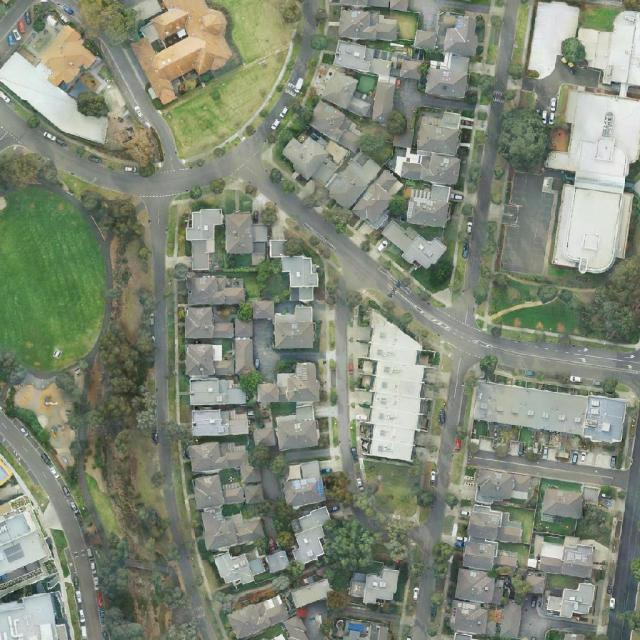agricultural_land: (0, 188, 106, 371)
building: (110, 0, 249, 112), (275, 117, 409, 231), (320, 5, 435, 129), (0, 455, 77, 640), (0, 50, 117, 156), (471, 380, 628, 446), (361, 311, 428, 461), (185, 434, 265, 514), (423, 10, 484, 103), (393, 110, 461, 185), (29, 22, 100, 93), (376, 219, 448, 273), (176, 201, 227, 274), (213, 540, 290, 588), (305, 98, 370, 154), (251, 403, 322, 454), (225, 590, 292, 640), (202, 503, 266, 552), (536, 531, 597, 579), (257, 362, 320, 403), (278, 459, 327, 510), (184, 304, 253, 340), (475, 468, 535, 509), (346, 565, 402, 606), (292, 506, 330, 564), (281, 253, 321, 304), (406, 183, 451, 227), (186, 275, 245, 305), (189, 376, 247, 406), (185, 344, 236, 377), (192, 410, 249, 436), (541, 487, 585, 519), (289, 579, 333, 609), (560, 582, 595, 618), (274, 322, 315, 349), (226, 212, 252, 254), (282, 613, 311, 640), (251, 223, 268, 265), (543, 151, 577, 171), (235, 338, 254, 373), (414, 30, 436, 50), (252, 299, 274, 319), (544, 595, 563, 615), (582, 485, 600, 504), (269, 238, 286, 258), (530, 535, 544, 558)
greenland: (91, 524, 201, 640), (86, 428, 171, 550), (95, 324, 155, 434), (215, 0, 297, 65), (582, 256, 640, 342), (315, 516, 377, 594), (74, 188, 149, 243), (0, 387, 58, 457), (261, 95, 317, 167), (0, 346, 42, 440), (500, 292, 587, 335), (497, 107, 549, 172), (325, 520, 374, 571), (244, 258, 290, 303), (384, 518, 410, 566), (322, 470, 354, 508), (561, 38, 586, 63), (305, 86, 322, 111)
metalled_road: (0, 9, 267, 253), (260, 184, 398, 308), (419, 349, 472, 551), (463, 103, 504, 290), (467, 448, 627, 490), (498, 170, 560, 277), (367, 268, 456, 341), (526, 46, 605, 110), (234, 143, 301, 211), (333, 300, 353, 472), (71, 450, 101, 530), (413, 569, 438, 632), (259, 91, 294, 133), (487, 101, 504, 136), (77, 426, 87, 443)
